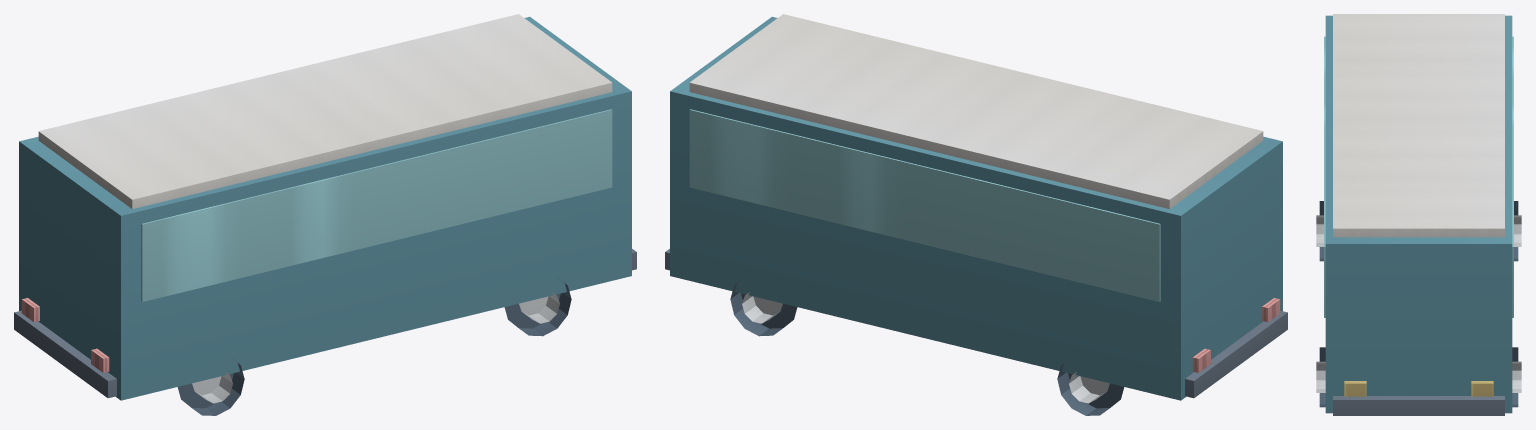
Rendered from city_bus.glb.
3 views of the same model, side by side, from view 1: azimuth 30°, elevation 25°; view 2: azimuth 150°, elevation 25°; view 3: azimuth 270°, elevation 25° (orthographic). The views are drawn at different scales.
Visible parts, largest first — view 1: city_bus; view 2: city_bus; view 3: city_bus.
Part boxes in pixels (bbox=[...]): city_bus: bbox=[14, 14, 636, 415]; city_bus: bbox=[665, 14, 1287, 415]; city_bus: bbox=[1316, 14, 1521, 415].
Bounding box in the file's own units: 7.04 × 2.92 × 2.58.
1 material, 1 textured.
